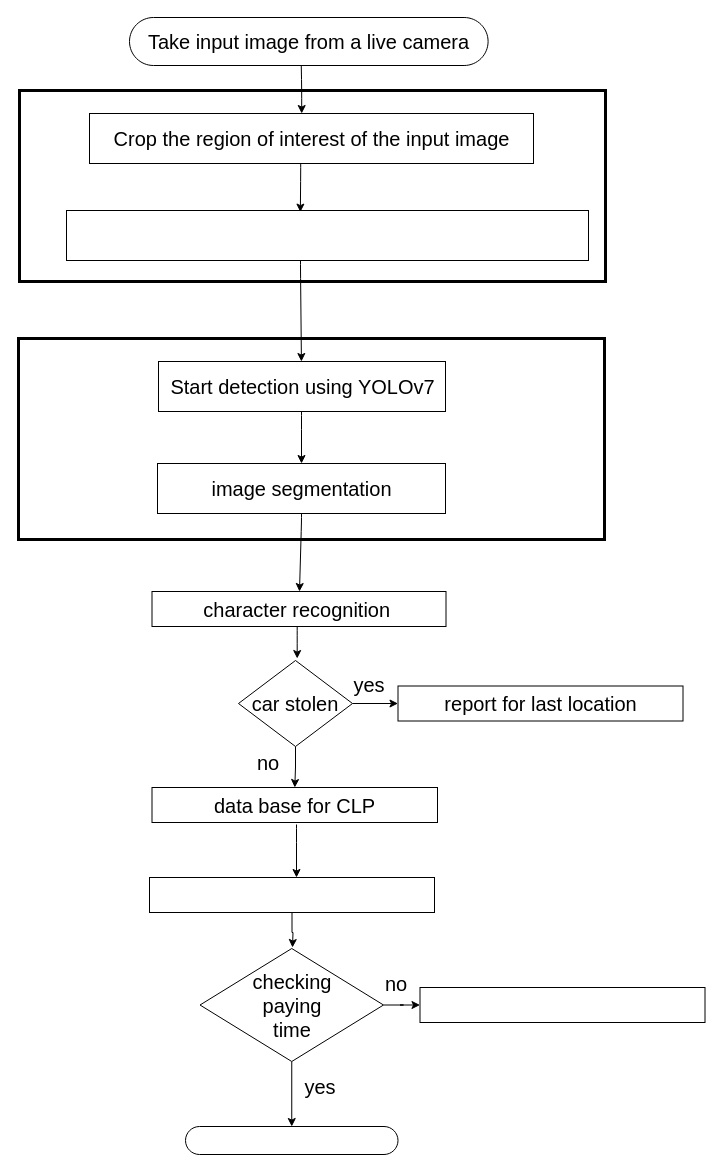
Some shapes in this 723 by 1172 pixel diagram are drawn without their labels. Each missing label, with the box of its shape:
add fine to application: (148, 876, 434, 912)
add more fine for latency: (419, 986, 705, 1022)
Image Wrapping (Based on the angel of the camera): (66, 210, 588, 260)
payment success: (184, 1126, 398, 1154)
